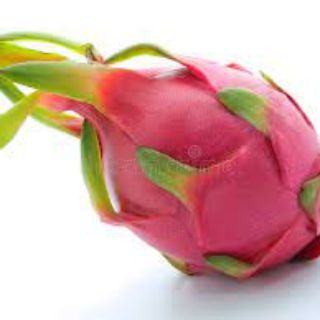thanh_long: (33, 41, 319, 278)
